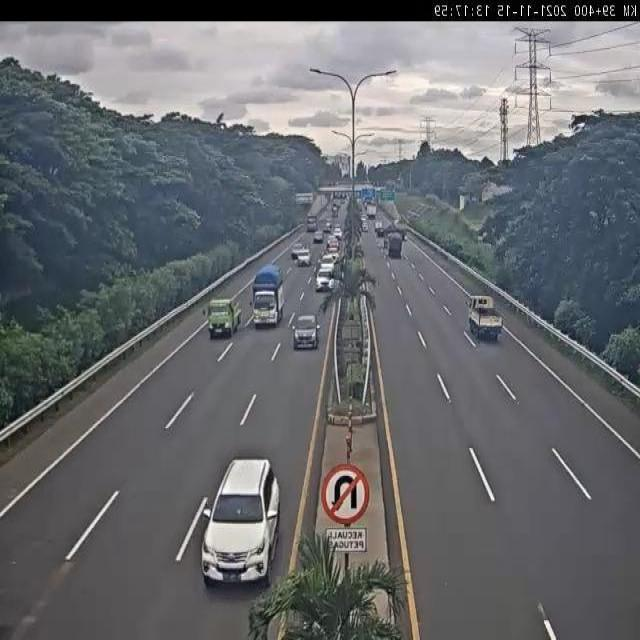Car: (191, 447, 292, 590), (289, 307, 320, 356), (313, 268, 336, 292), (294, 250, 314, 272), (318, 256, 338, 275), (312, 230, 325, 247)
Truck: (248, 267, 288, 334), (461, 288, 507, 344), (203, 291, 247, 341), (382, 234, 406, 258)
